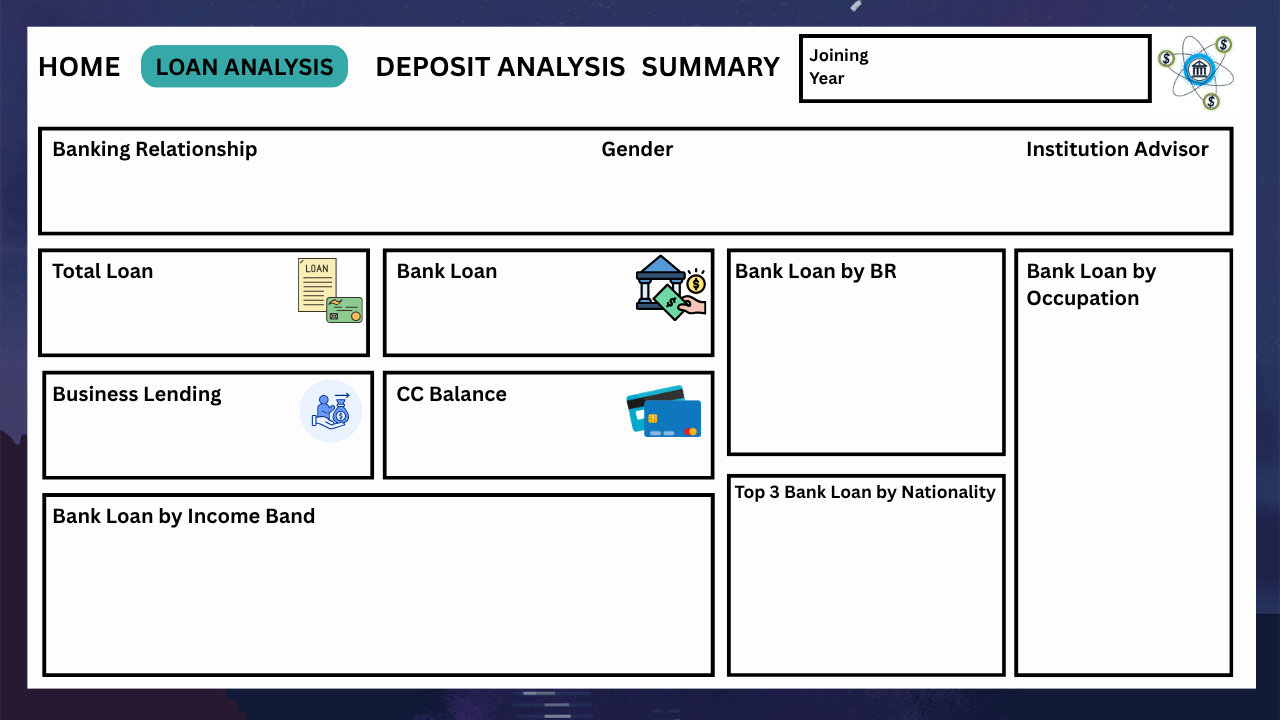

This screenshot's page, from the dashboard's own definition file:
{"tool":"powerbi","page":{"name":"Loan_Analysis_Page","canvas":[1280,720],"ordinal":1},"visuals":[{"type":"card","fields":{"Values":["banking-clients.Total Loans"]},"box":[45.4,283.2,235.1,63.2],"z":0},{"type":"card","fields":{"Values":["Sum(banking-clients.Bank Loans)"]},"box":[393.2,281.8,236.5,63.2],"z":1000},{"type":"card","fields":{"Values":["Sum(banking-clients.Business Lending)"]},"box":[60.5,408.3,235.1,64.6],"z":2000},{"type":"card","fields":{"Values":["Sum(banking-clients.Credit Card Balance)"]},"box":[389.1,408.3,235.1,64.6],"z":3000},{"type":"actionButton","box":[27.5,46.7,100.4,39.9],"z":4000},{"type":"actionButton","box":[365.7,46.7,264,39.9],"z":5000},{"type":"actionButton","box":[640.7,46.7,143,39.9],"z":6000},{"type":"slicer","fields":{"Values":["banking-clients.Year"]},"box":[871.7,41.2,266.7,50.9],"z":7000},{"type":"donutChart","fields":{"Category":["banking-clients.Income Band"],"Y":["Sum(banking-clients.Bank Loans)"]},"box":[78.4,537.6,585.7,125.1],"z":8000},{"type":"columnChart","fields":{"Category":["banking-clients.BRId"],"Y":["Sum(banking-clients.Bank Loans)"]},"box":[735.6,291.5,255.7,149.9],"z":9000},{"type":"columnChart","fields":{"Category":["banking-clients.Nationality"],"Y":["Sum(banking-clients.Bank Loans)"]},"box":[743.2,513.3,256.7,149.3],"z":10000},{"type":"columnChart","fields":{"Category":["banking-clients.BRId"],"Y":["Sum(banking-clients.Bank Loans)"]},"box":[733.1,291.9,256.7,149.3],"z":11000},{"type":"columnChart","fields":{"Category":["banking-clients.Occupation"],"Y":["Sum(banking-clients.Bank Loans)"]},"box":[1028.4,313.5,184.2,349.2],"z":12000},{"type":"slicer","fields":{"Values":["banking-clients.BRId"]},"box":[45.4,166.4,455.1,61.9],"z":13000},{"type":"slicer","fields":{"Values":["banking-clients.GenderId"]},"box":[507.3,171.9,354.7,52.2],"z":14000},{"type":"slicer","fields":{"Values":["banking-clients.IAId"]},"box":[884,171.9,328.6,49.5],"z":15000}]}

Visuals, with their boxes in screenshot pixels (x1, y1, x2, y2), scaled from the page's 1280x720 canvas onto the 1280x720 screenshot:
card - banking-clients.Total Loans: 45, 283, 280, 346
card - Sum(banking-clients.Bank Loans): 393, 282, 630, 345
card - Sum(banking-clients.Business Lending): 60, 408, 296, 473
card - Sum(banking-clients.Credit Card Balance): 389, 408, 624, 473
actionButton: 28, 47, 128, 87
actionButton: 366, 47, 630, 87
actionButton: 641, 47, 784, 87
slicer - banking-clients.Year: 872, 41, 1138, 92
donutChart - banking-clients.Income Band x Sum(banking-clients.Bank Loans): 78, 538, 664, 663
columnChart - banking-clients.BRId x Sum(banking-clients.Bank Loans): 736, 292, 991, 441
columnChart - banking-clients.Nationality x Sum(banking-clients.Bank Loans): 743, 513, 1000, 663
columnChart - banking-clients.BRId x Sum(banking-clients.Bank Loans): 733, 292, 990, 441
columnChart - banking-clients.Occupation x Sum(banking-clients.Bank Loans): 1028, 314, 1213, 663
slicer - banking-clients.BRId: 45, 166, 500, 228
slicer - banking-clients.GenderId: 507, 172, 862, 224
slicer - banking-clients.IAId: 884, 172, 1213, 221
